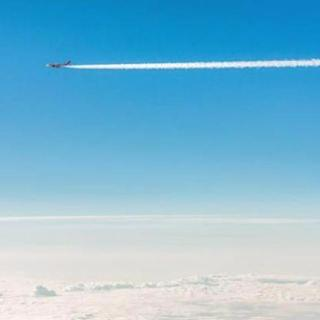Contrails: (0, 29, 320, 187)
